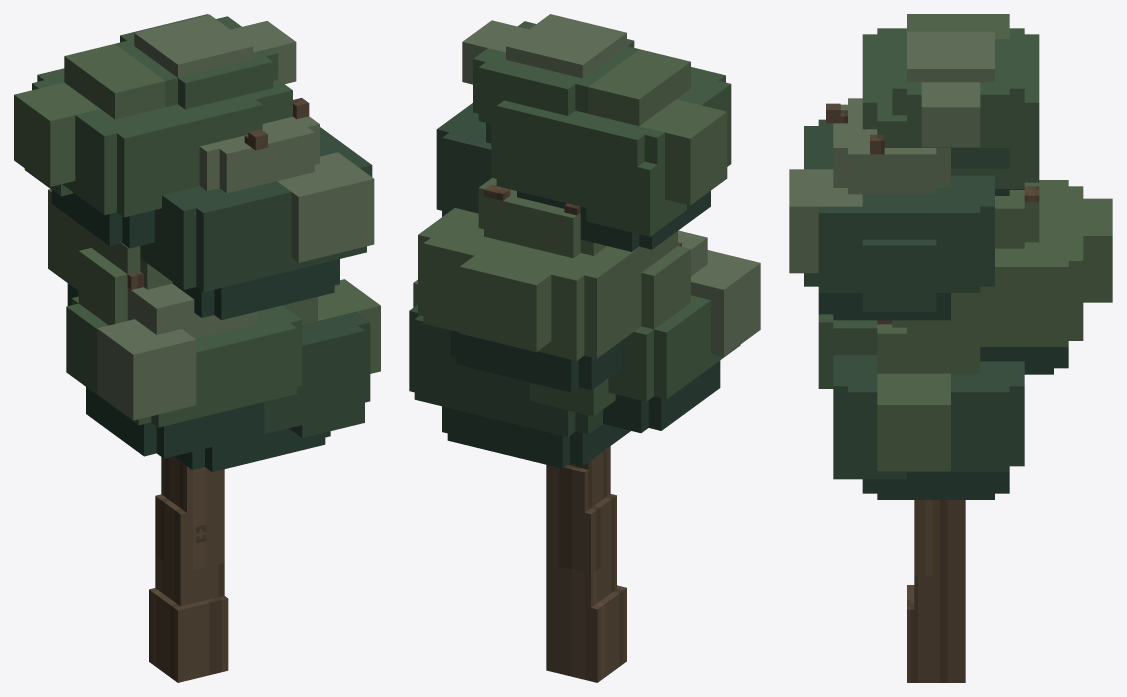
File: juniper_mature_picked.glb
3 renders of one model, left to right at view 1: azimuth 30°, elevation 25°; view 2: azimuth 150°, elevation 25°; view 3: azimuth 270°, elevation 25°, orthographic.
Visible parts, largest first — view 1: VoxelVisual; view 2: VoxelVisual; view 3: VoxelVisual.
Boxes of the visible parts, bbox=[...] form: VoxelVisual: bbox=[14, 14, 380, 682]; VoxelVisual: bbox=[409, 14, 760, 682]; VoxelVisual: bbox=[789, 14, 1112, 682].
Size of what is drawn, in the model's own units: 6 by 11.75 by 5.5.
